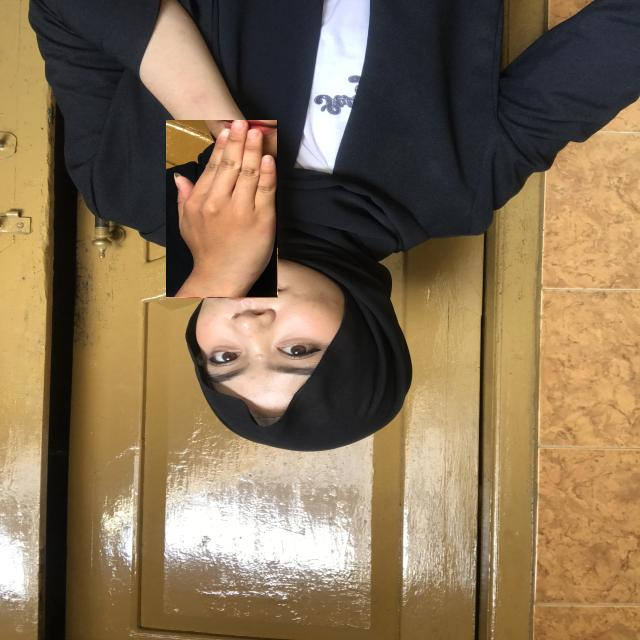ganteng: (166, 120, 278, 298)
